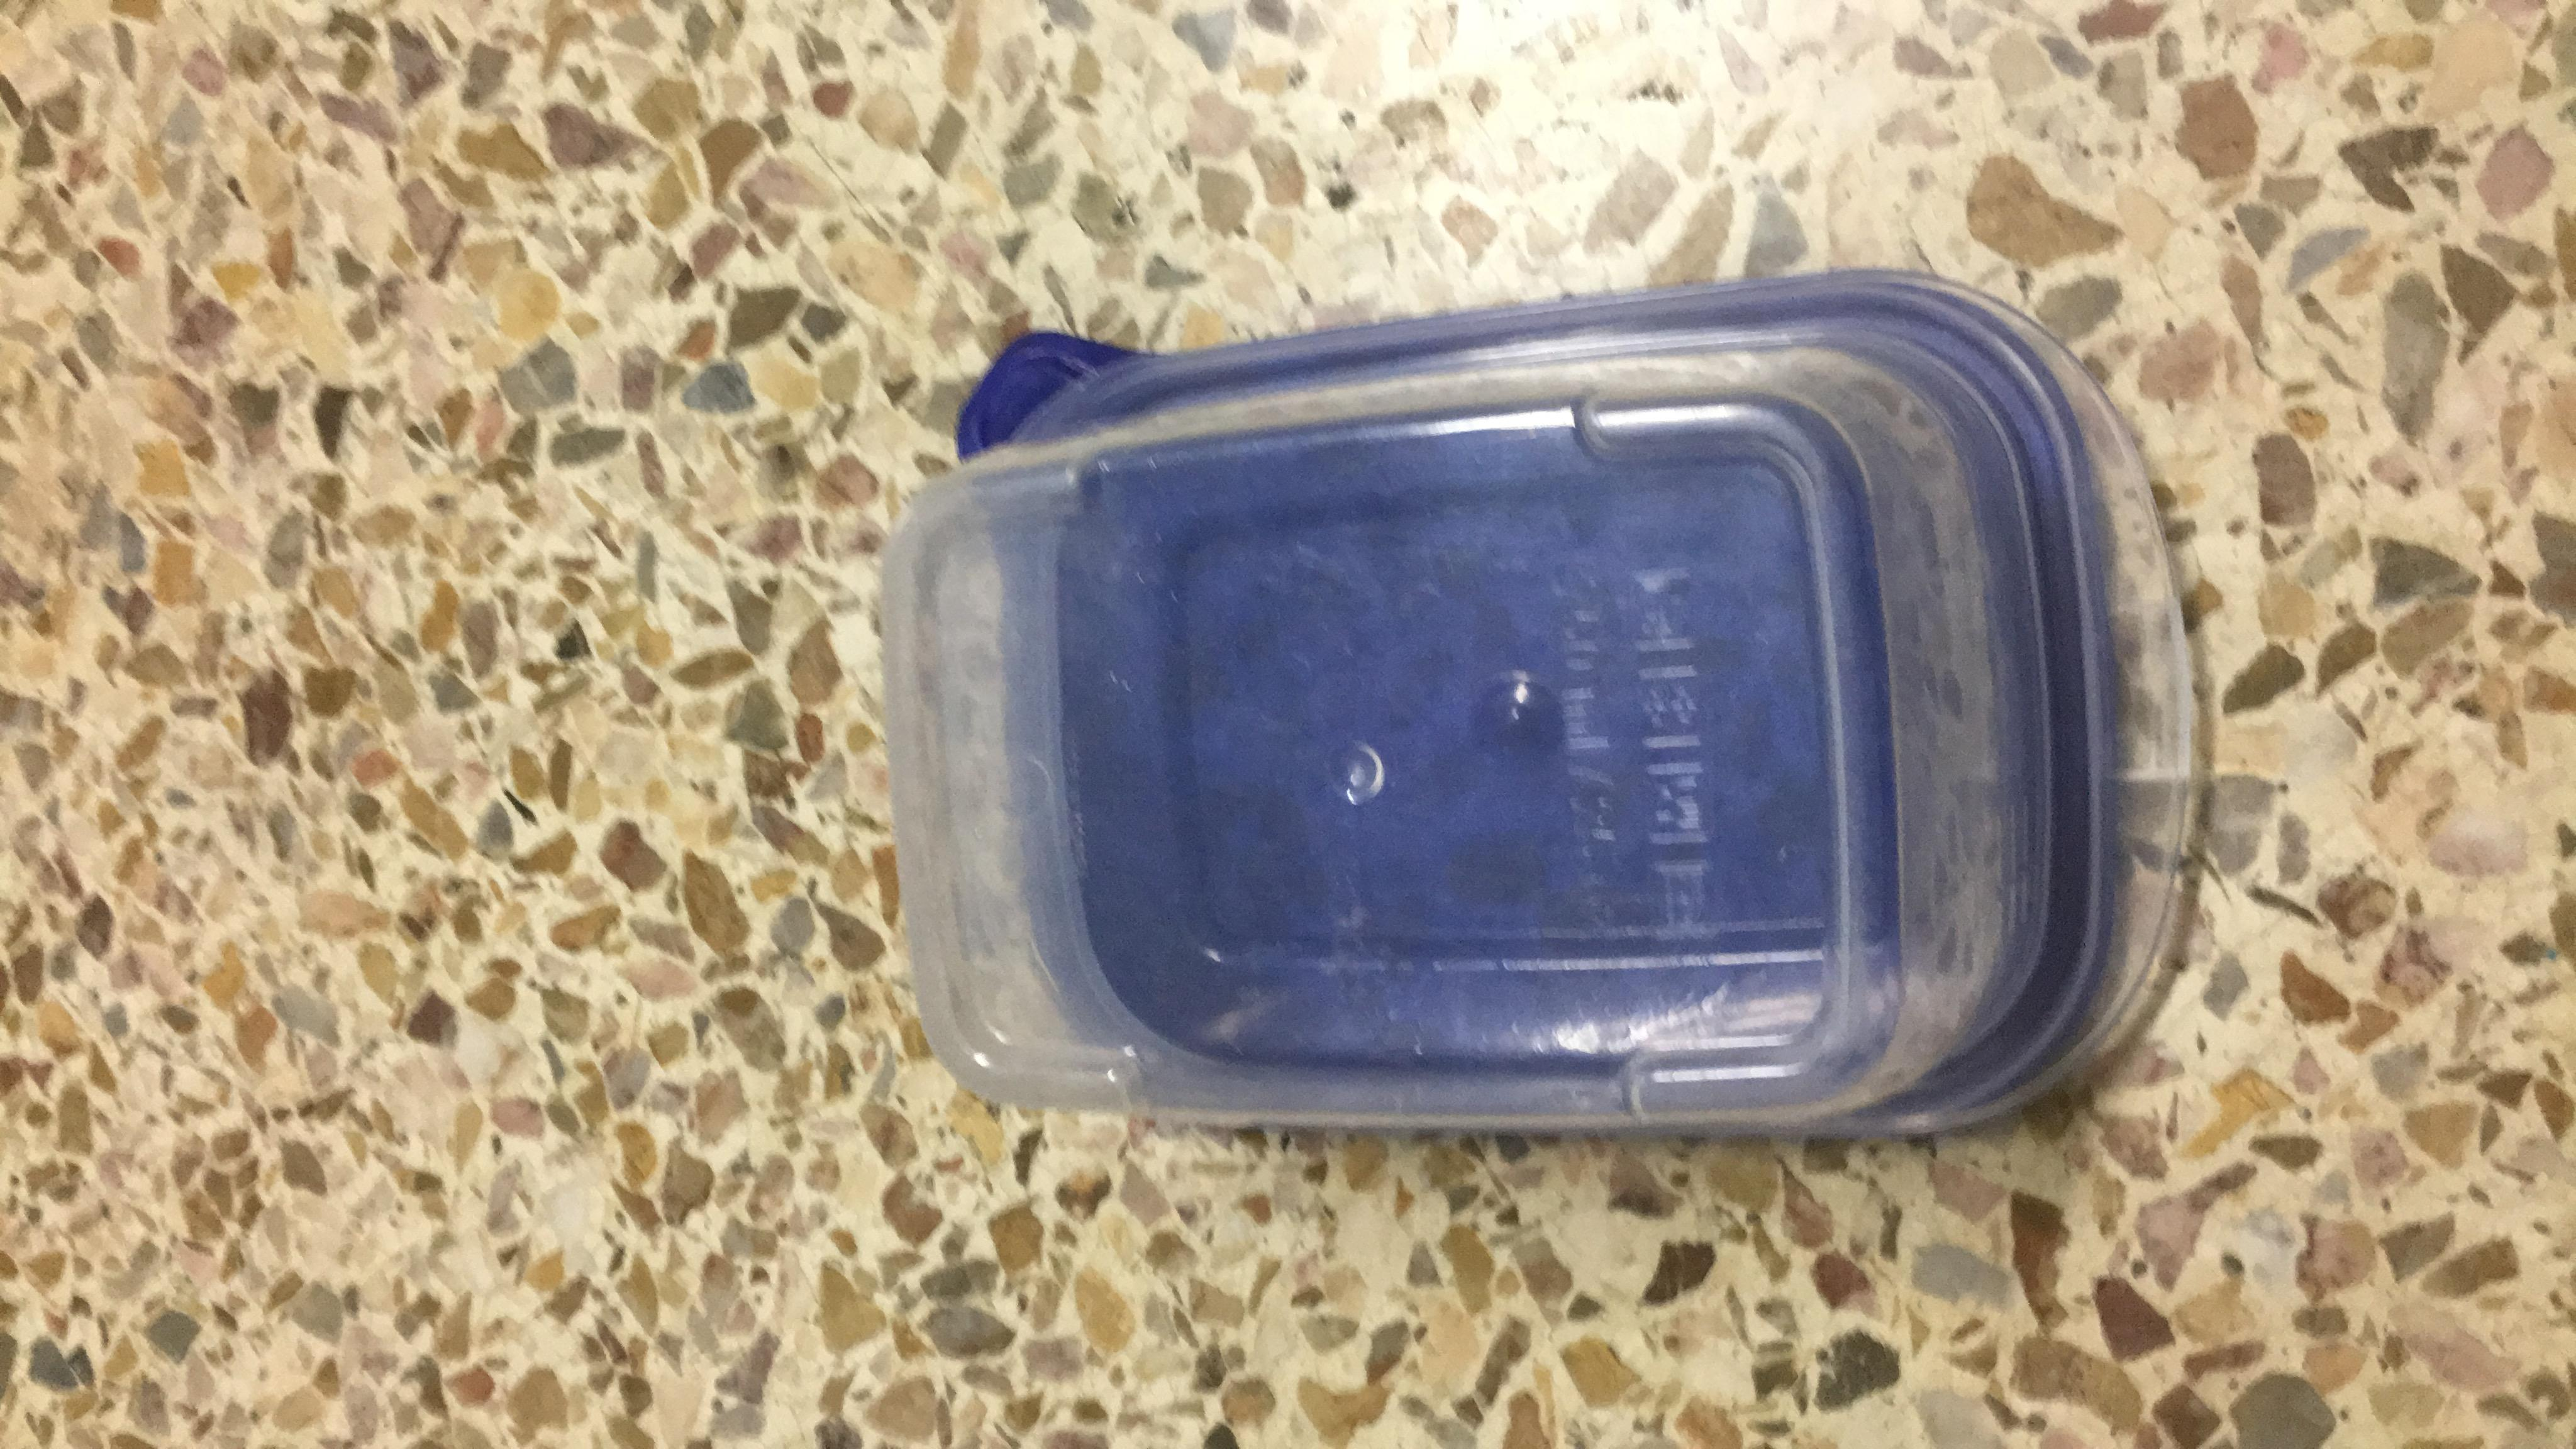bottle: (386, 492, 2063, 1224)
